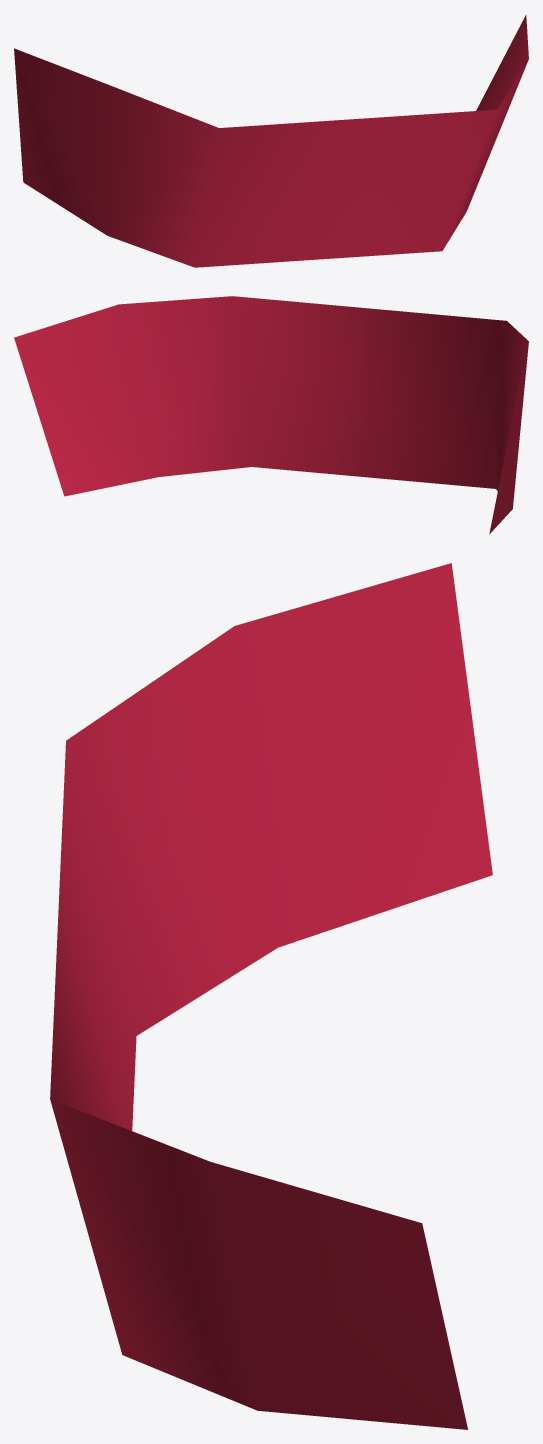
The picture shows the model from 3 angles, top to bottom: view 1: azimuth 30°, elevation 25°; view 2: azimuth 150°, elevation 25°; view 3: azimuth 270°, elevation 25°; orthographic projection. The views are drawn at different scales.
Visible parts, largest first — view 1: ef_410; view 2: ef_410; view 3: ef_410.
Part boxes in pixels (bbox=[...]): ef_410: bbox=[14, 14, 528, 267]; ef_410: bbox=[14, 296, 528, 534]; ef_410: bbox=[50, 563, 492, 1429].
Bounding box in the file's own units: 0.954 × 0.4101 × 0.3623.
Materials: 1 (1 with a texture image).
